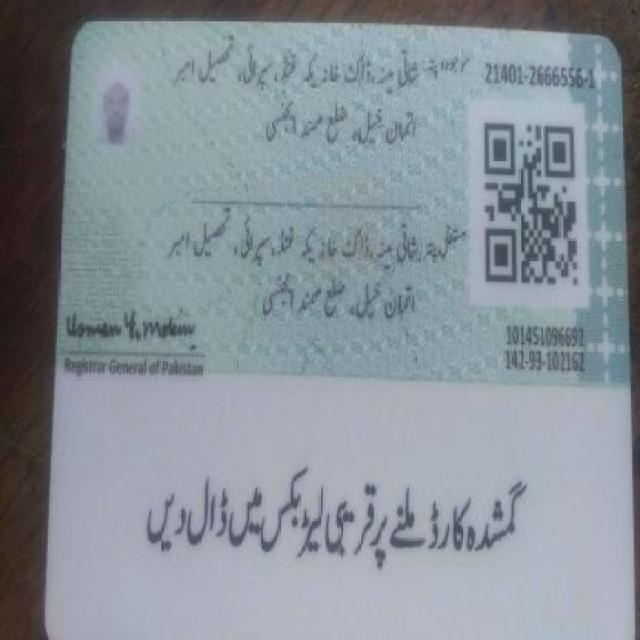Back: (49, 14, 631, 634)
